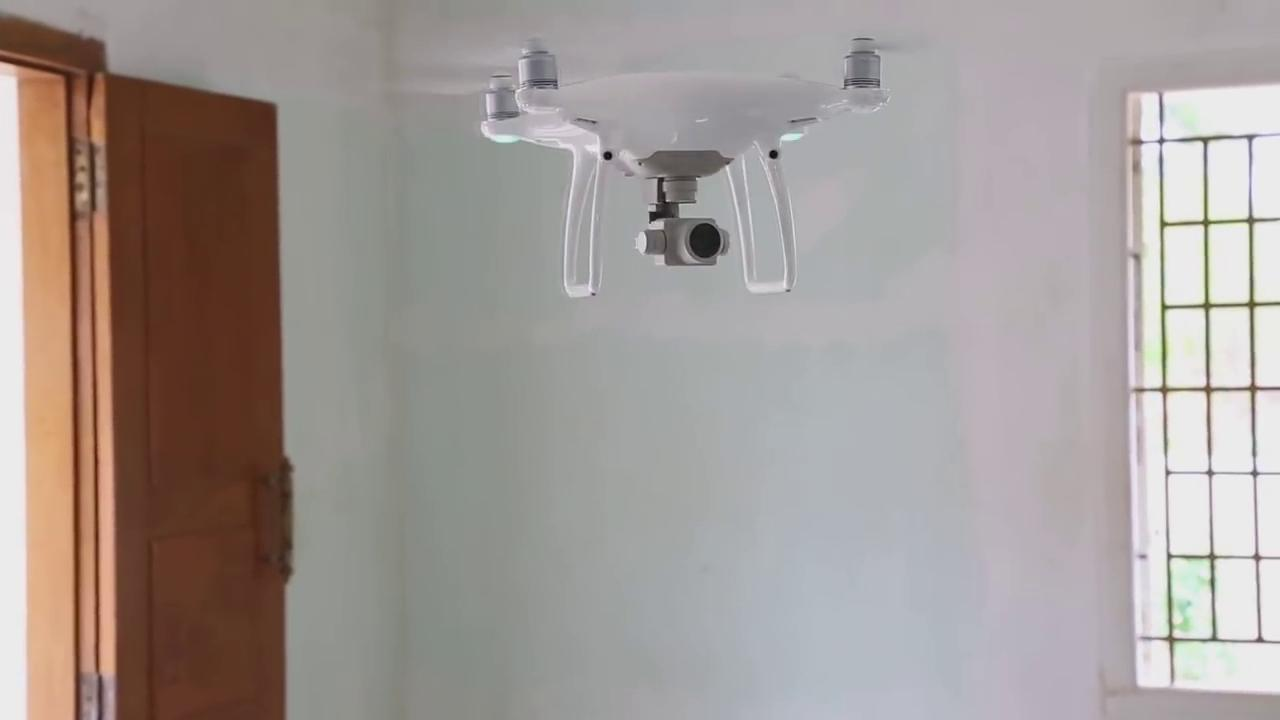drone: (400, 30, 949, 320)
